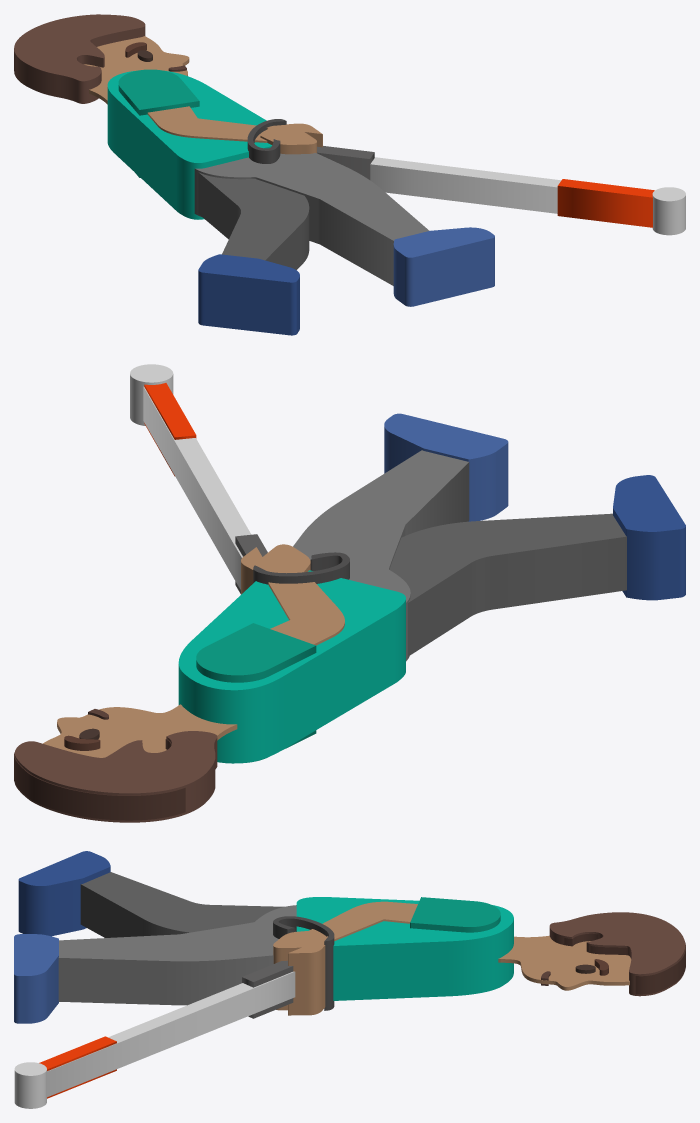
Rendered from emoji_u1f468_1f3fd_200d_1f9af_200d_27a1.glb.
3 renders of one model, top to bottom at view 1: azimuth 30°, elevation 25°; view 2: azimuth 150°, elevation 25°; view 3: azimuth 270°, elevation 25°, orthographic. The views are drawn at different scales.
Parts seen in each view (by area): view 1: emoji_u1f468_1f3fd_200d_1f9af_200d_27a1; view 2: emoji_u1f468_1f3fd_200d_1f9af_200d_27a1; view 3: emoji_u1f468_1f3fd_200d_1f9af_200d_27a1.
Part boxes in pixels (bbox=[...]): emoji_u1f468_1f3fd_200d_1f9af_200d_27a1: bbox=[14, 14, 685, 335]; emoji_u1f468_1f3fd_200d_1f9af_200d_27a1: bbox=[14, 364, 685, 822]; emoji_u1f468_1f3fd_200d_1f9af_200d_27a1: bbox=[14, 851, 685, 1108].
Bounding box in the file's own units: 0.0252 × 0.0038 × 0.0332.
